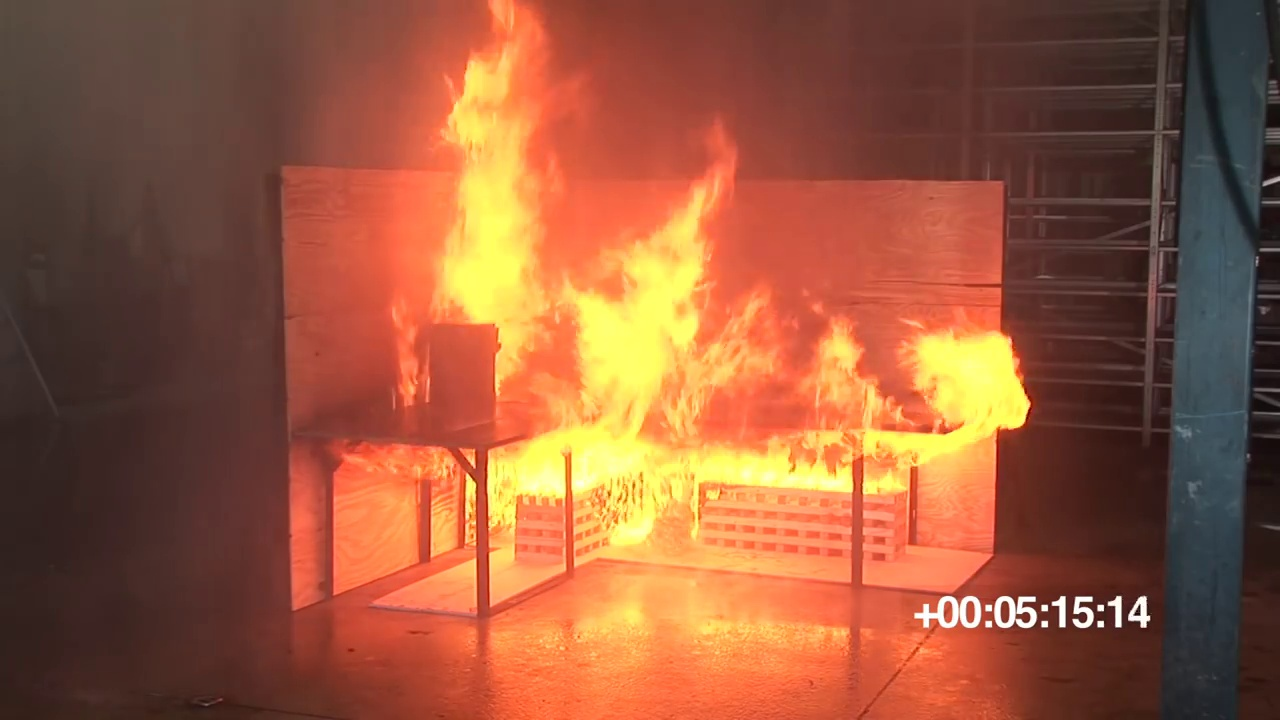fire: (565, 236, 1026, 443), (447, 1, 557, 323), (518, 430, 897, 489), (675, 119, 736, 238)
